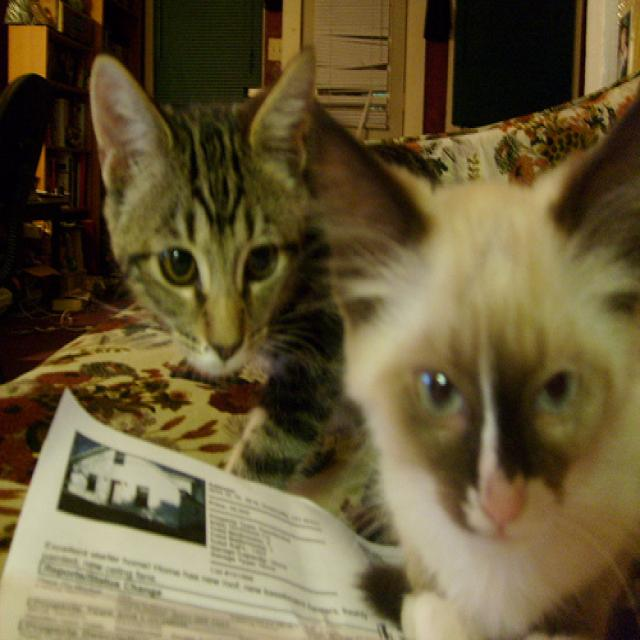cat: (311, 93, 640, 639), (88, 42, 344, 492)
sofa: (1, 68, 640, 639)
